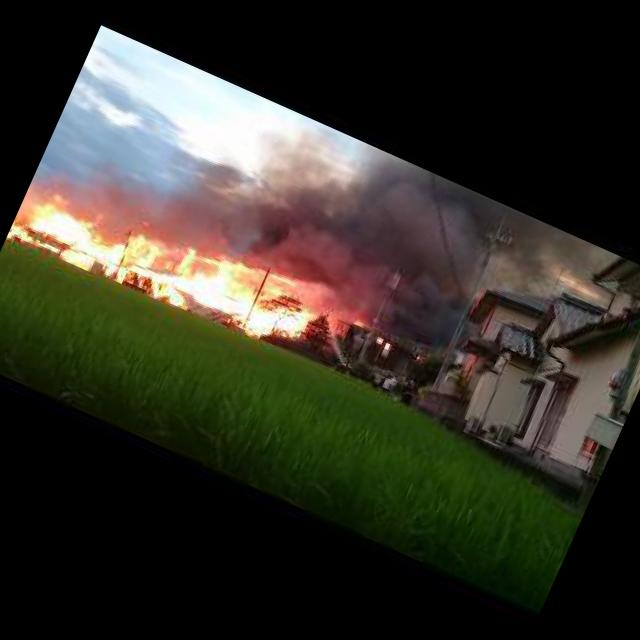fire: (11, 174, 322, 362), (416, 353, 424, 361)
smoke: (205, 102, 514, 361)
